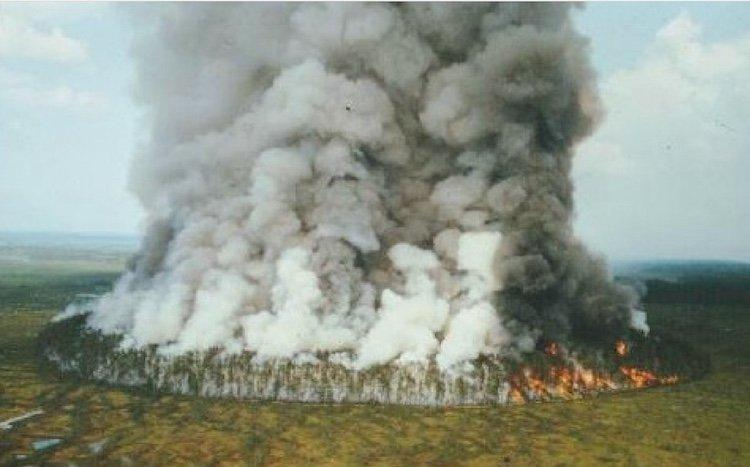smoke: (53, 3, 658, 368)
